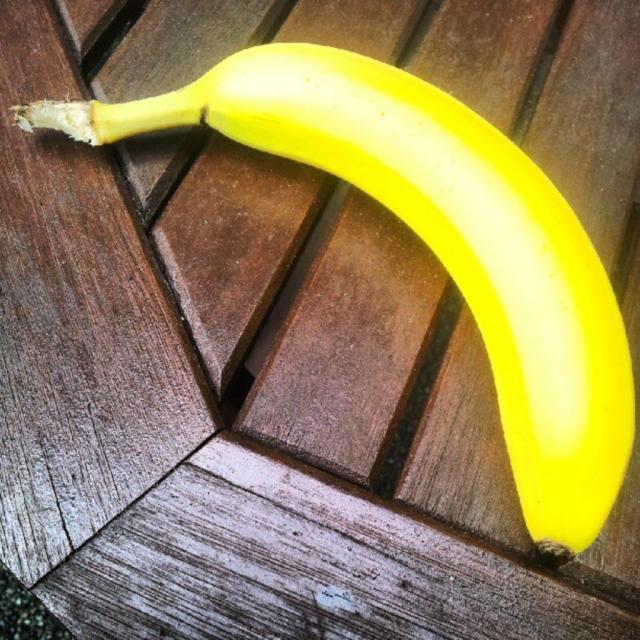Banana: (7, 36, 639, 566)
